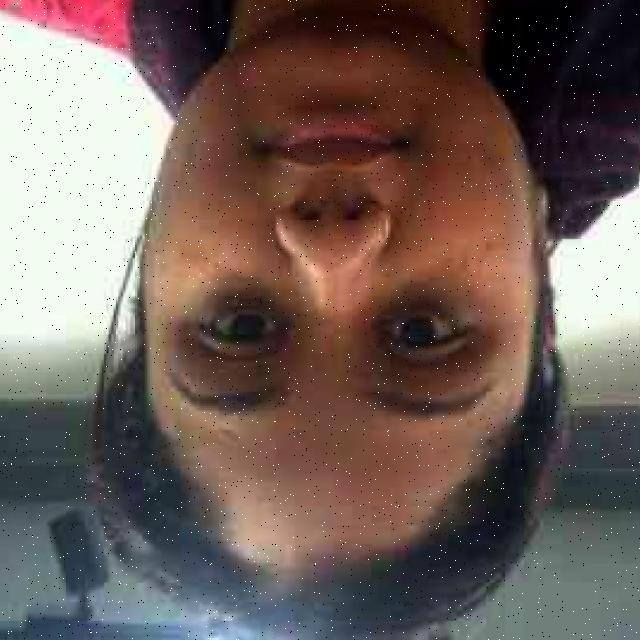puffy_eyes: (375, 282, 469, 319), (201, 280, 292, 317)
